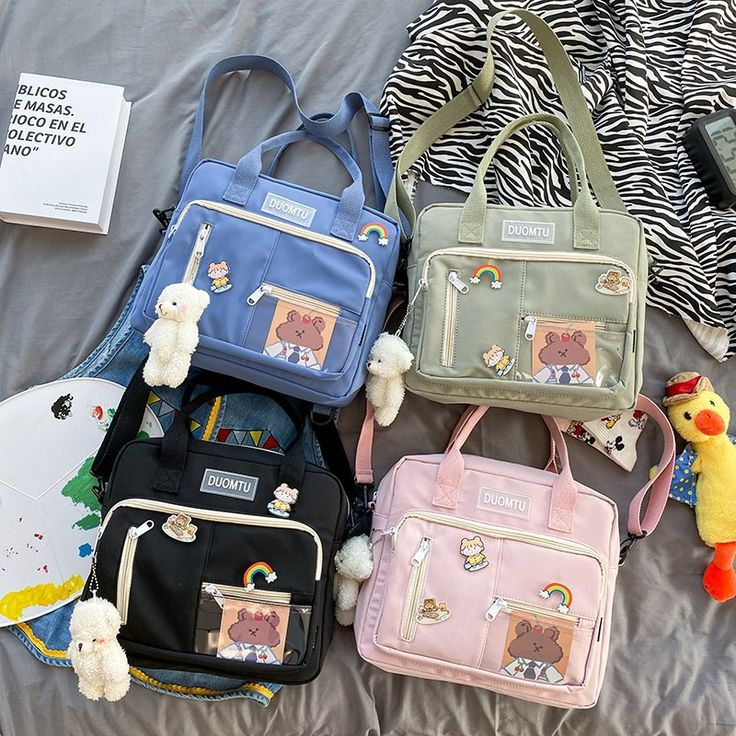nylon: (80, 158, 648, 709)
